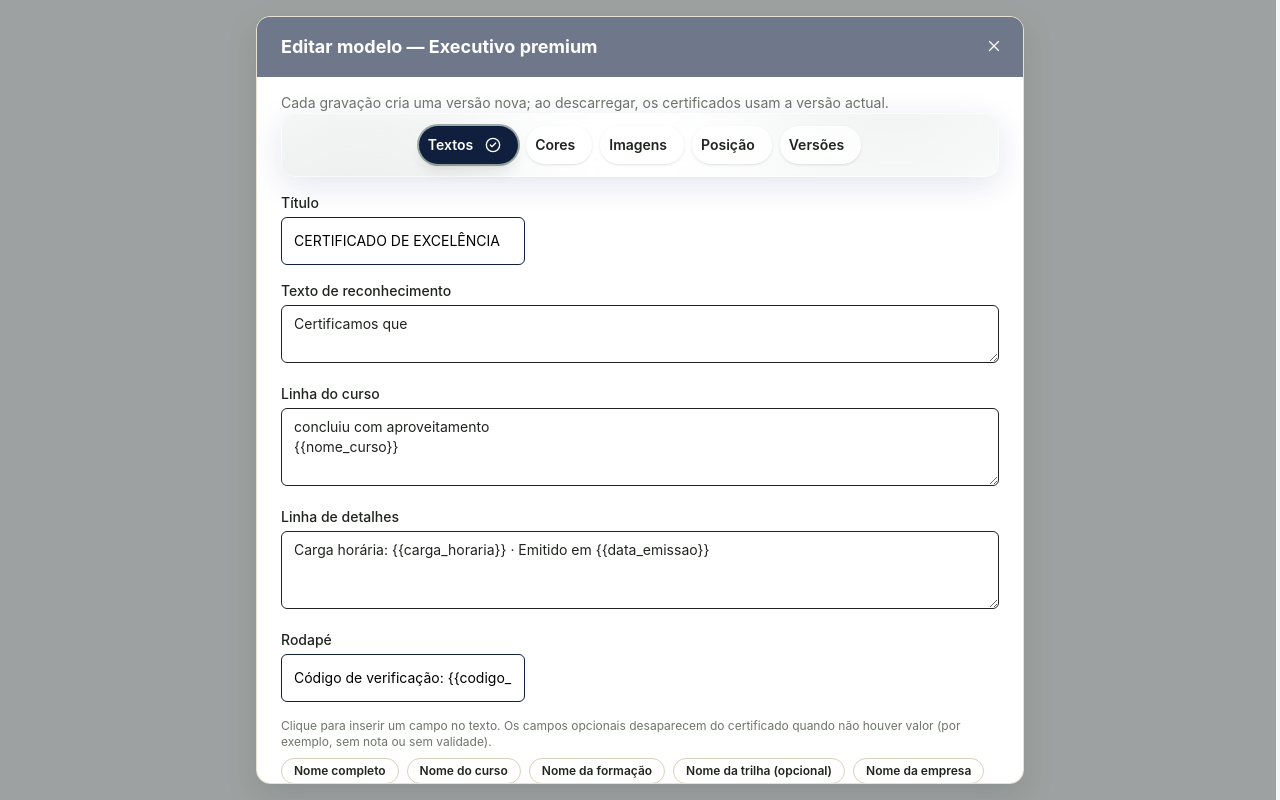
Test: TemplateEditorModal › a nota da assinatura avisa que não é uma assinatura digital criptográfica
Click the tab "Imagens": point(642, 145) x1=600 y1=126 x2=684 y2=164
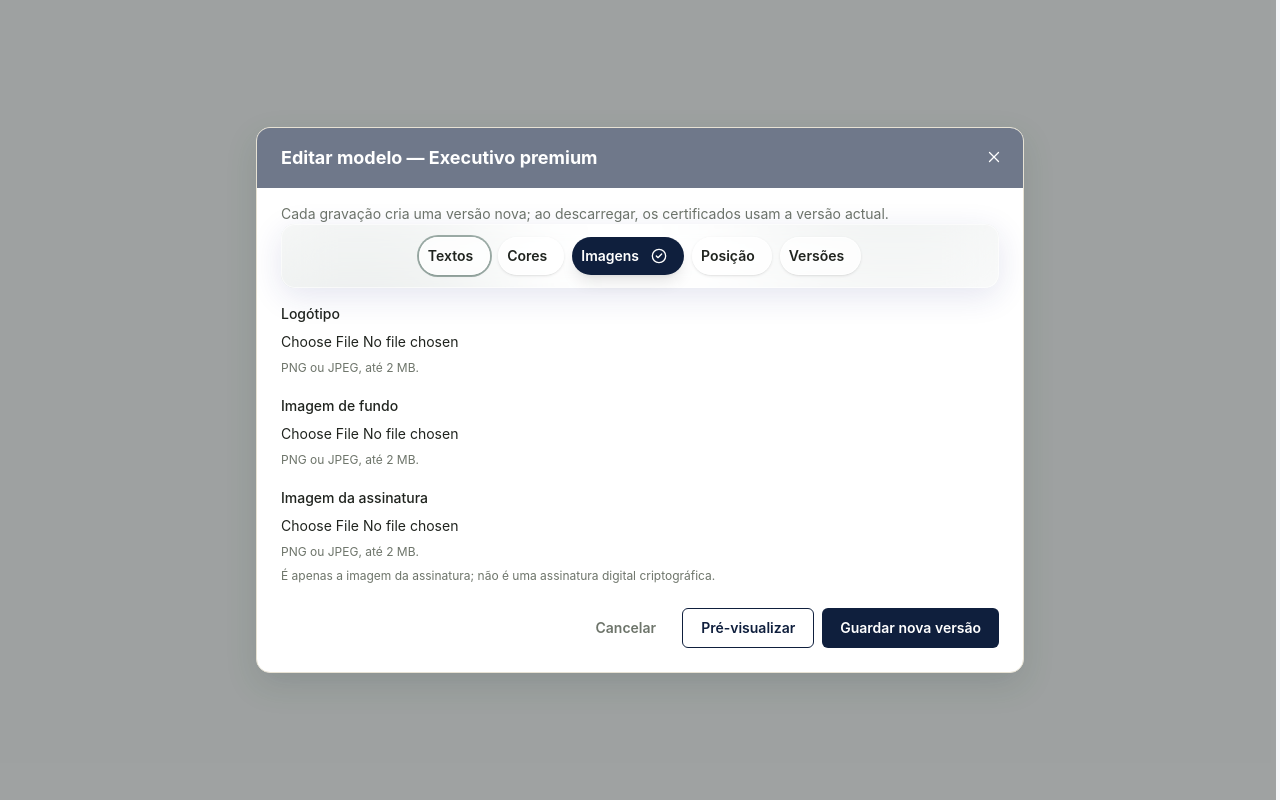
Result: the text "não é uma assinatura digital criptográfica" is shown at x1=281 y1=568 x2=715 y2=583
